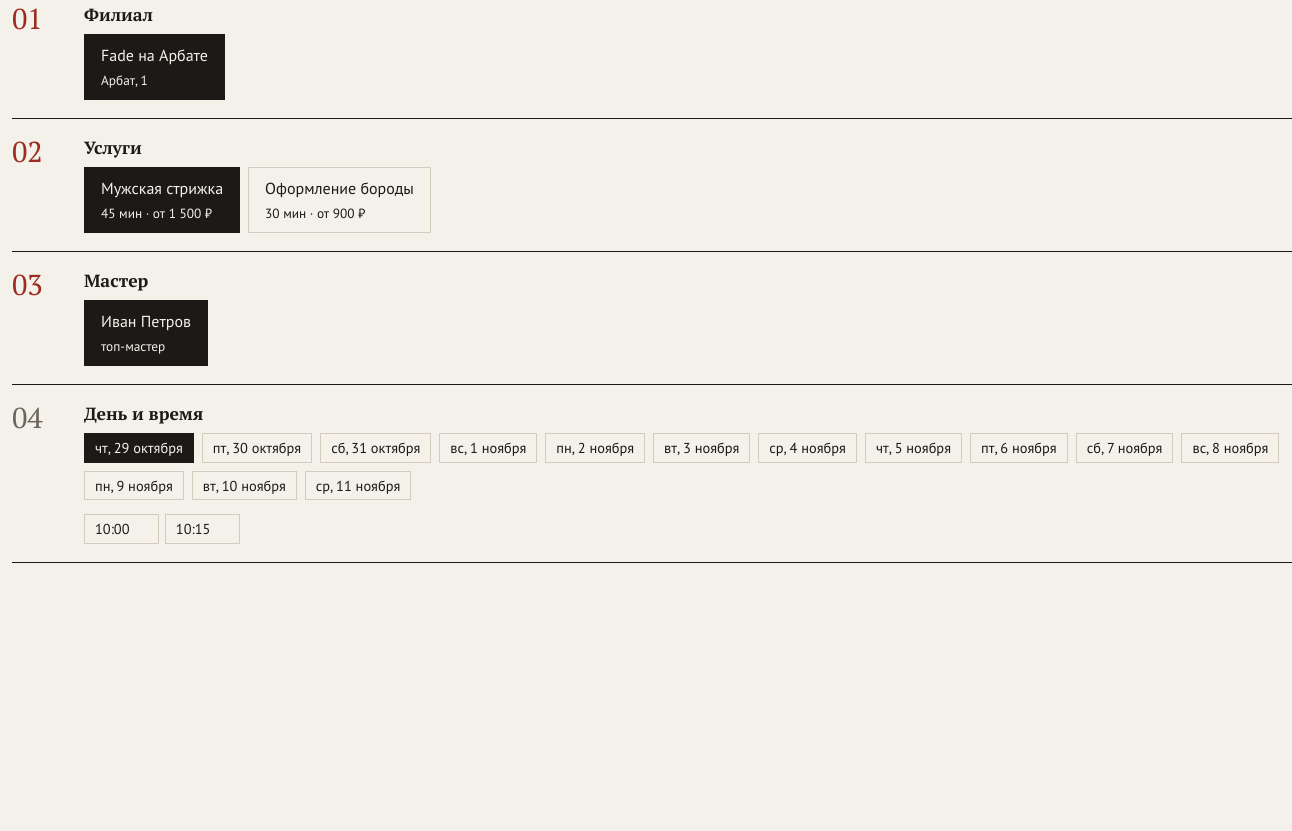
Запись › гостю вместо кнопки предлагает войти
Click the button "10:00" at (121, 529), box [84,514,159,544]
(page scrolled)
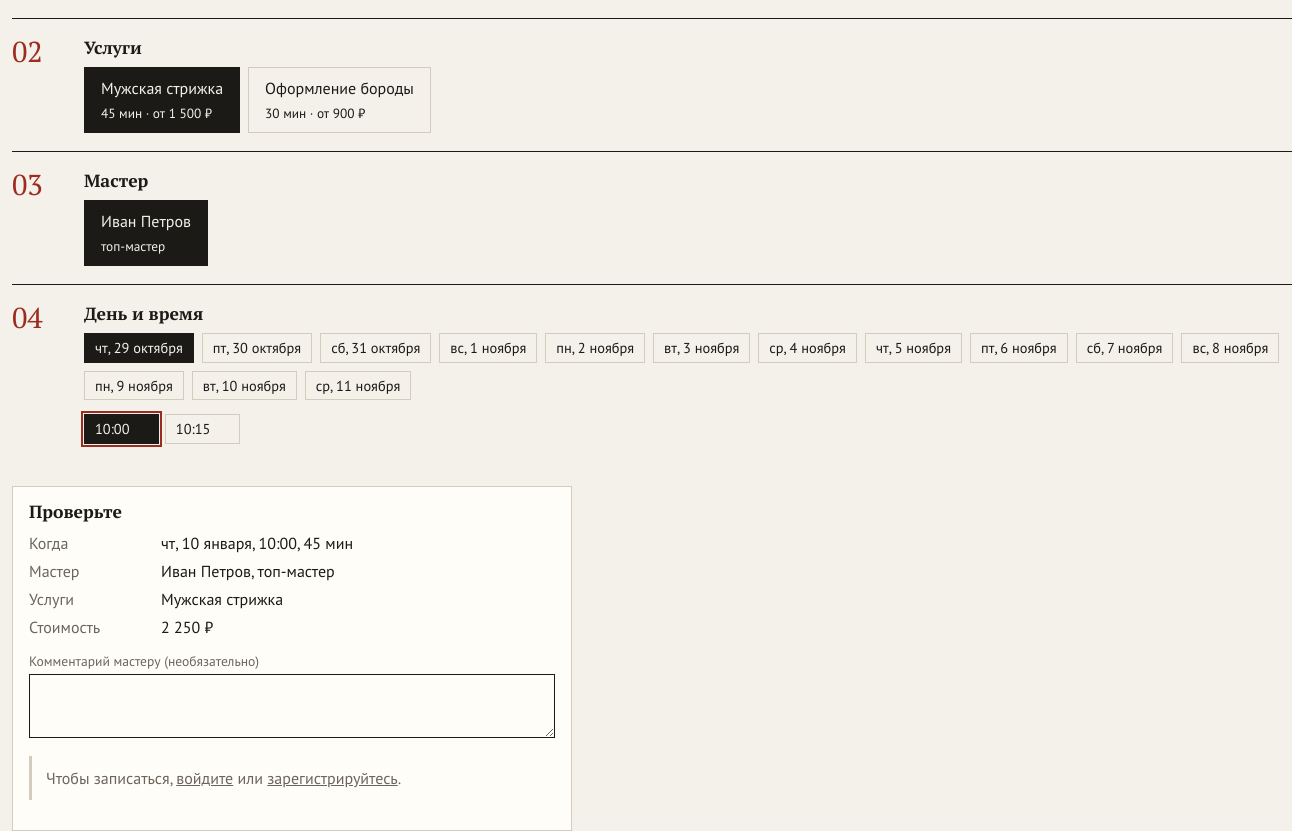
Now the link "войдите" is shown, box [176,768,233,788]
